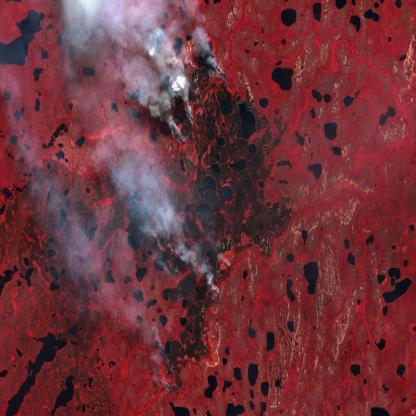fire: (150, 249, 236, 401), (164, 38, 232, 150)
